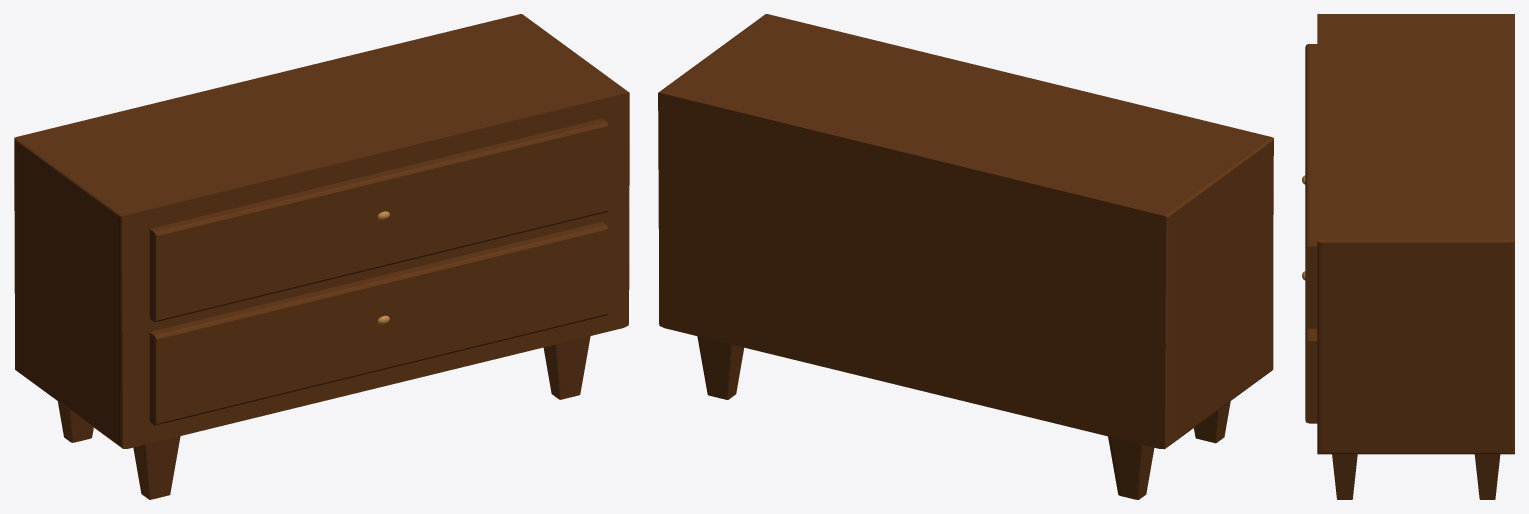
The model's file is M_MeubleLong.fbx.
3 views of the same model, side by side, from view 1: azimuth 30°, elevation 25°; view 2: azimuth 150°, elevation 25°; view 3: azimuth 270°, elevation 25° (orthographic). The views are drawn at different scales.
Visible parts, largest first — view 1: Cube.001; view 2: Cube.001; view 3: Cube.001.
Boxes of the visible parts, x1,y1,x2,y2 form: Cube.001: (14, 14, 629, 499); Cube.001: (658, 14, 1273, 499); Cube.001: (1302, 14, 1514, 499).
Size of the model in its own units: 820 by 463 by 323.
